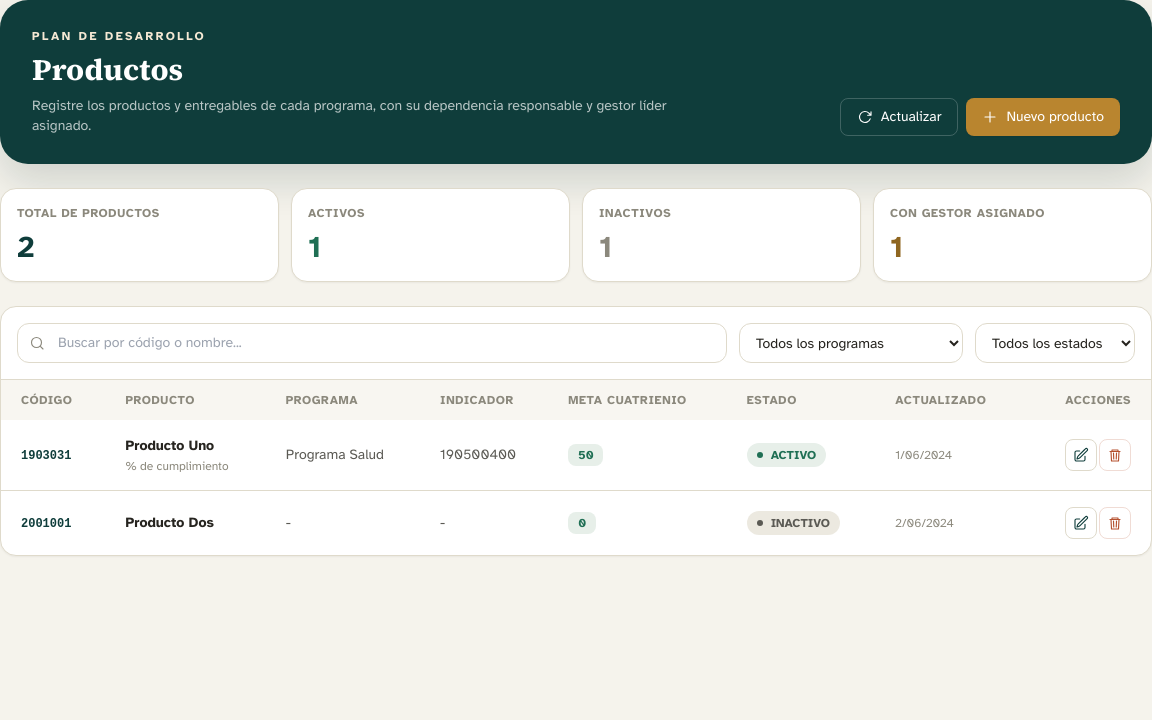
Test: ProductosPage › muestra un error cuando la eliminación falla
expect the text "Producto Uno" is shown: met, box top-left (126, 437), bottom-right (214, 454)
What coordinates should you click on to do the following:
click the button named "Eliminar" in the row of "1903031"
I would click on:
 (1115, 455)
Its box is top-left (1099, 439), bottom-right (1131, 471).
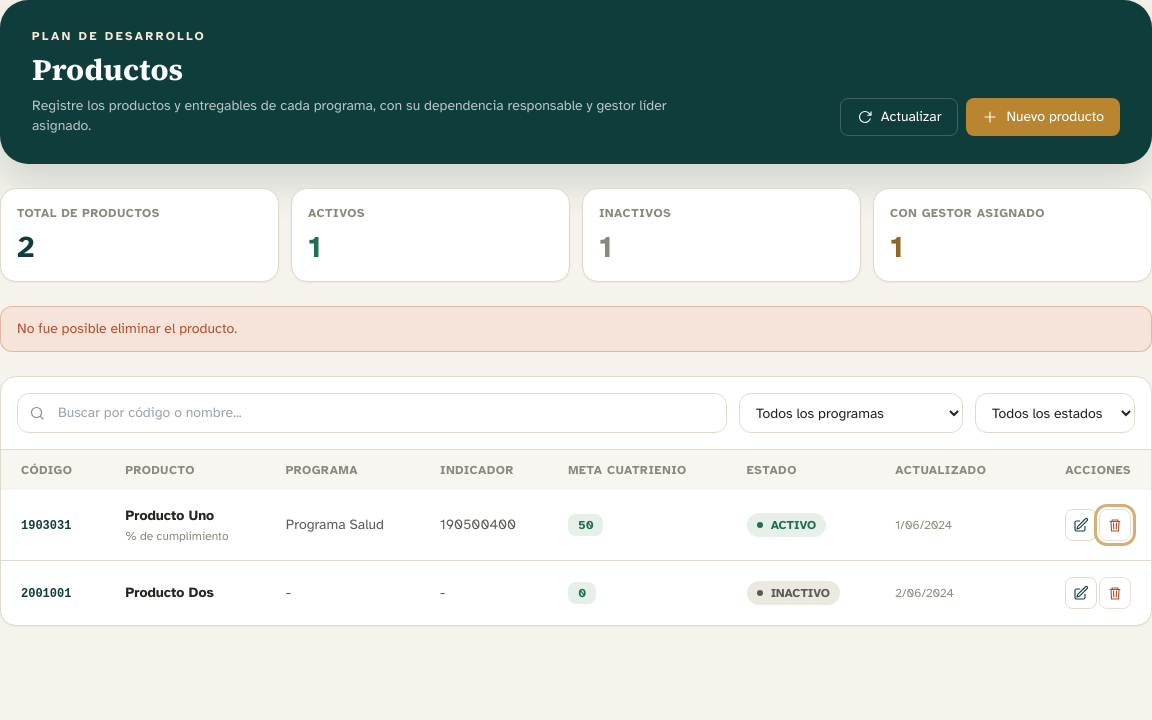
expect the text "No fue posible eliminar el producto." is shown: met, box top-left (0, 306), bottom-right (1151, 352)
